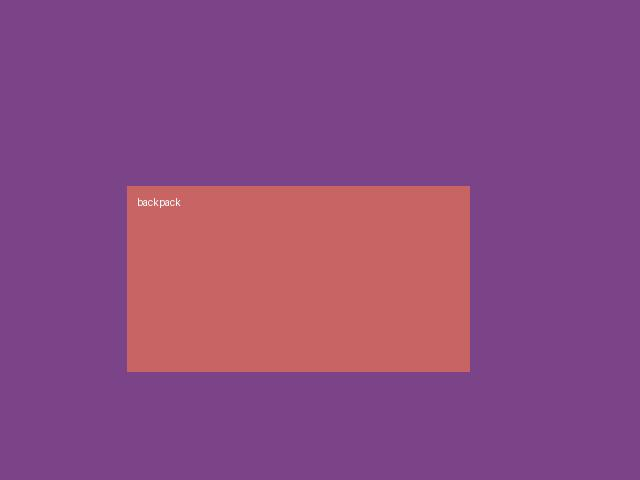backpack: (127, 186, 469, 371)
